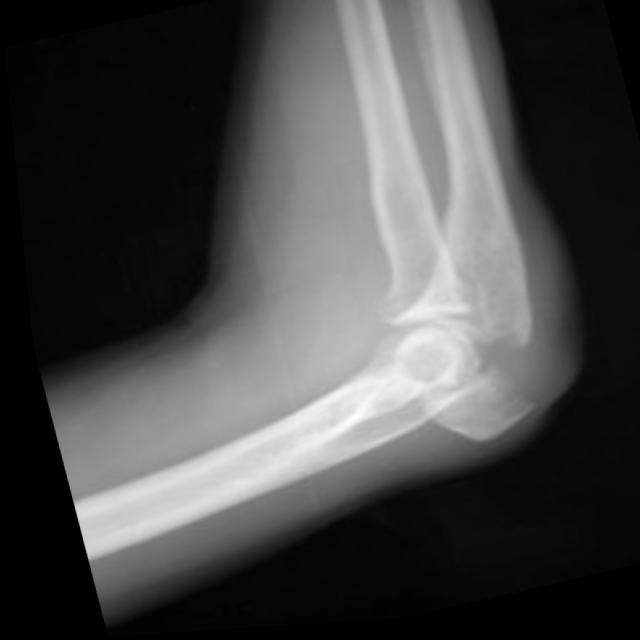fracture: (400, 321, 571, 460)
